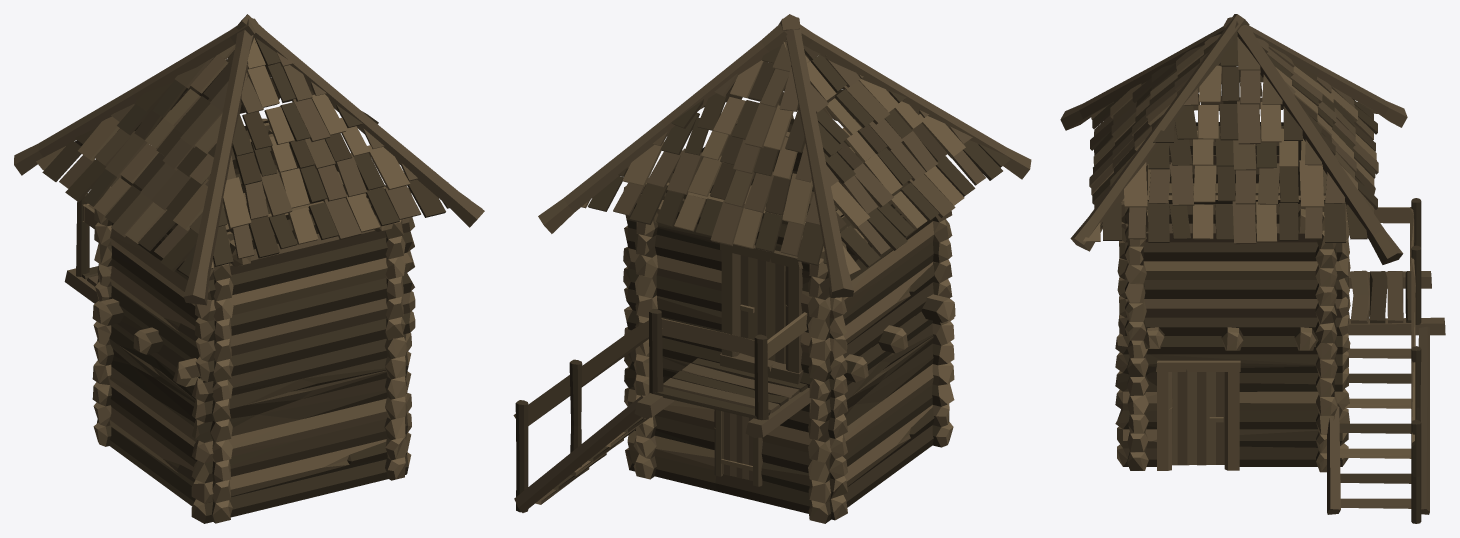
Rendered from EA03_Village_Tover_01a.glb.
3 views of the same model, side by side, from view 1: azimuth 30°, elevation 25°; view 2: azimuth 150°, elevation 25°; view 3: azimuth 270°, elevation 25° (orthographic). The views are drawn at different scales.
Parts seen in each view (by area): view 1: EA03_Village_Tover_01a; view 2: EA03_Village_Tover_01a; view 3: EA03_Village_Tover_01a.
Part boxes in pixels (x1=…): EA03_Village_Tover_01a: x1=14, y1=14, x2=484, y2=523; EA03_Village_Tover_01a: x1=513, y1=14, x2=1031, y2=523; EA03_Village_Tover_01a: x1=1060, y1=14, x2=1445, y2=523.
Bounding box in the file's own units: 8.12 × 10.86 × 8.8.
1 material, 1 textured.
